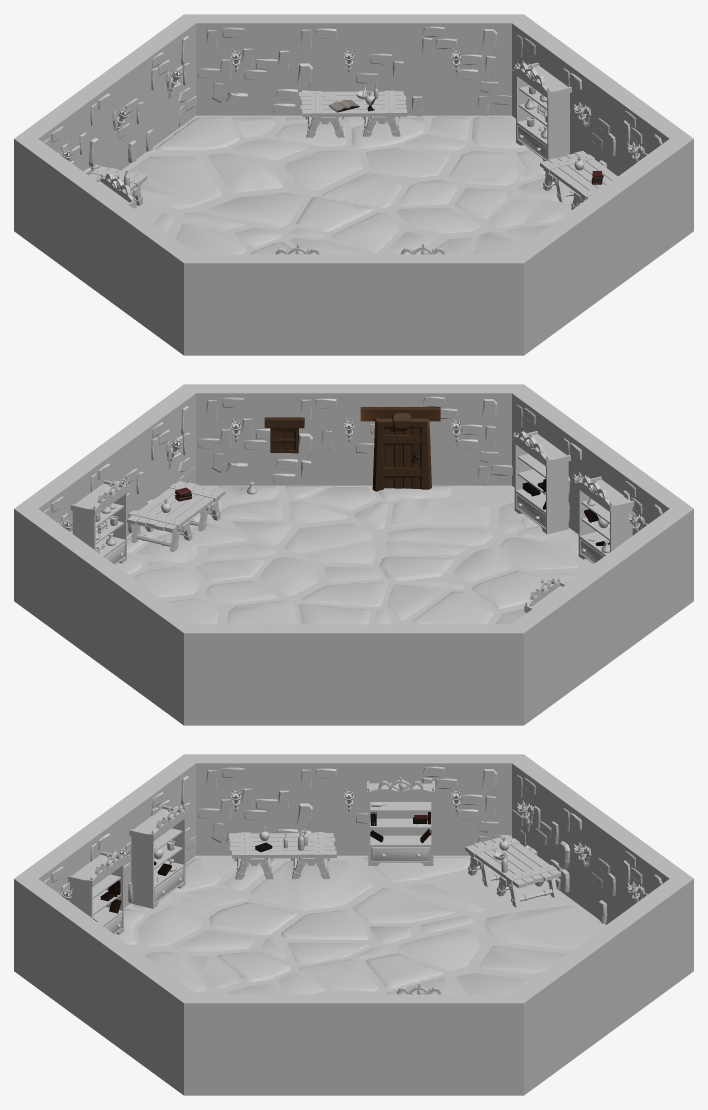
Rendered from MorionRoom4.fbx.
3 views of the same model, one above another, from view 1: azimuth 30°, elevation 25°; view 2: azimuth 150°, elevation 25°; view 3: azimuth 270°, elevation 25° (orthographic).
Parts seen in each view (by area): view 1: Paredes.002, Paredes.003, Paredes.004, mesa3.004, Armario.004, Elermeyer4.001; view 2: Paredes.002, Paredes.003, Paredes.004, Armario.004, Ventana.001, mesa3.004, Elermeyer4.001, Tinta.001; view 3: Paredes.002, Paredes.003, Paredes.004, Armario.004, mesa3.004, Tinta.001, Botellla2.007.
Part boxes in pixels (x1,y1,x2,y2): Paredes.002: [14, 14, 693, 355]; Paredes.003: [128, 116, 573, 254]; Paredes.004: [121, 115, 555, 254]; mesa3.004: [89, 90, 617, 209]; Armario.004: [94, 62, 571, 254]; Elermeyer4.001: [356, 85, 547, 138]; Paredes.002: [14, 384, 693, 725]; Paredes.003: [115, 486, 593, 624]; Paredes.004: [127, 485, 589, 624]; Armario.004: [70, 431, 634, 613]; Ventana.001: [264, 407, 440, 491]; mesa3.004: [127, 481, 225, 551]; Elermeyer4.001: [95, 481, 609, 553]; Tinta.001: [174, 479, 609, 546]; Paredes.002: [14, 754, 693, 1095]; Paredes.003: [115, 857, 601, 994]; Paredes.004: [124, 855, 605, 994]; Armario.004: [68, 776, 451, 994]; mesa3.004: [228, 832, 561, 907]; Tinta.001: [92, 812, 431, 921]; Botellla2.007: [154, 802, 509, 872].
Size of the model in its own units: 1732 by 379 by 2000.
